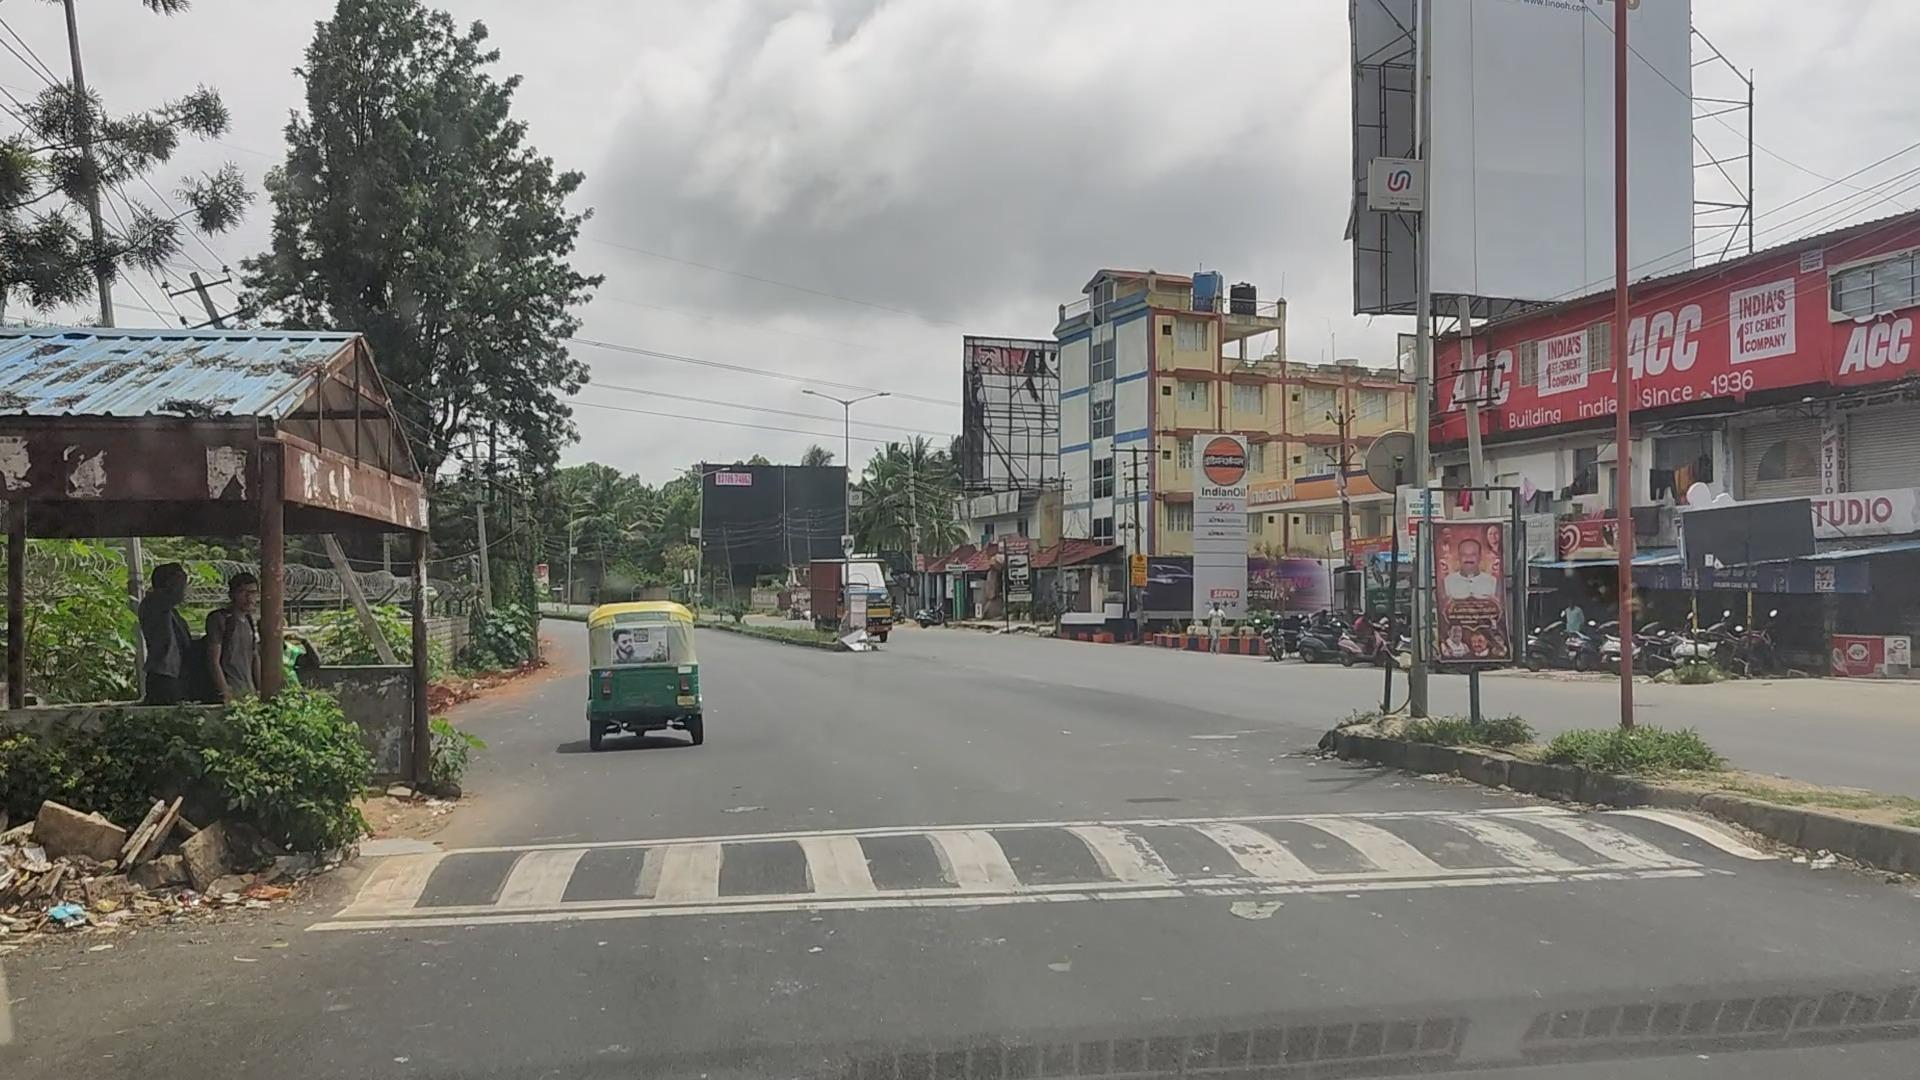LMV: (589, 604, 700, 731)
SpeedBump: (389, 802, 1753, 915)
